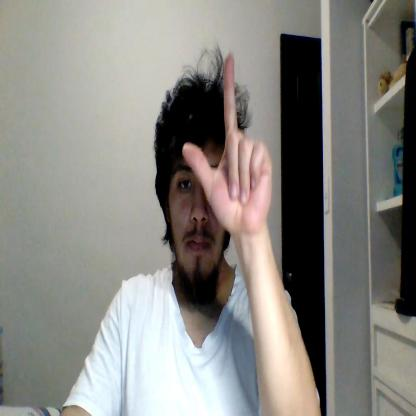L: (183, 52, 273, 235)
